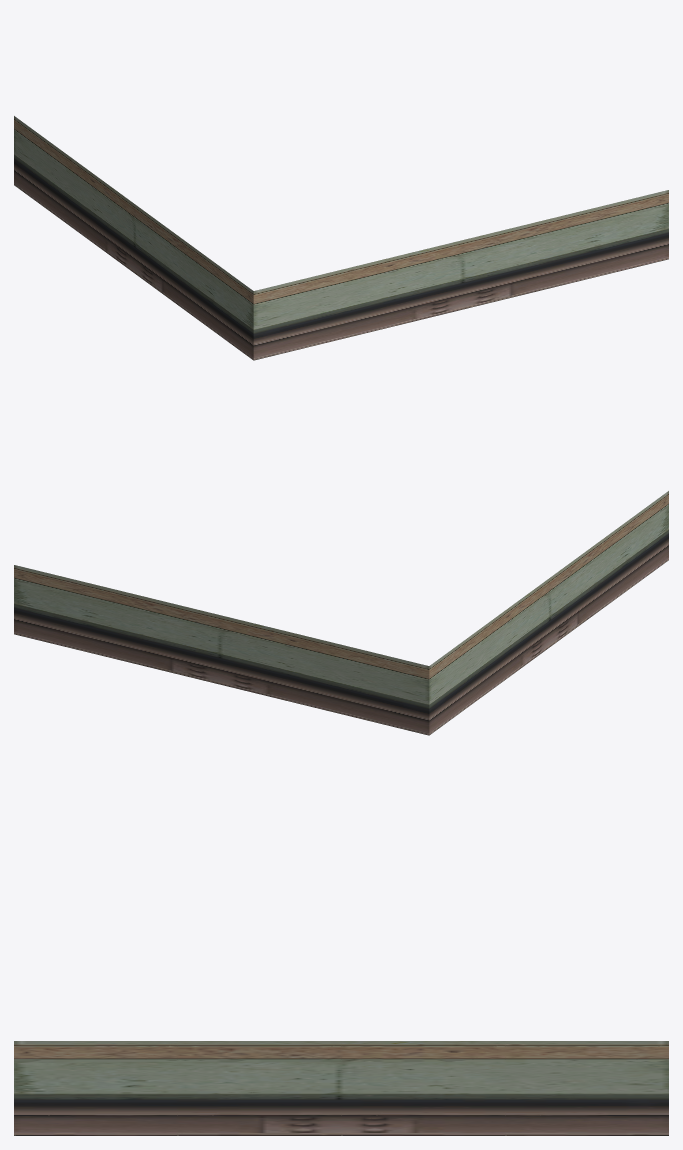
The picture shows the model from 3 angles, top to bottom: view 1: azimuth 30°, elevation 25°; view 2: azimuth 150°, elevation 25°; view 3: azimuth 270°, elevation 25°; orthographic projection. The views are drawn at different scales.
Parts seen in each view (by area): view 1: Joint_0_Object_0, Joint_0_Object_1; view 2: Joint_0_Object_0, Joint_0_Object_1; view 3: Joint_0_Object_1.
Part boxes in pixels (x1,y1,x2,y2): Joint_0_Object_0: (253,190,668,360); Joint_0_Object_1: (14,116,253,360); Joint_0_Object_0: (14,565,429,735); Joint_0_Object_1: (429,491,668,735); Joint_0_Object_1: (14,1041,668,1135).
Bounding box in the file's own units: 10000 × 1600 × 10000.
Materials: 1 (1 with a texture image).
